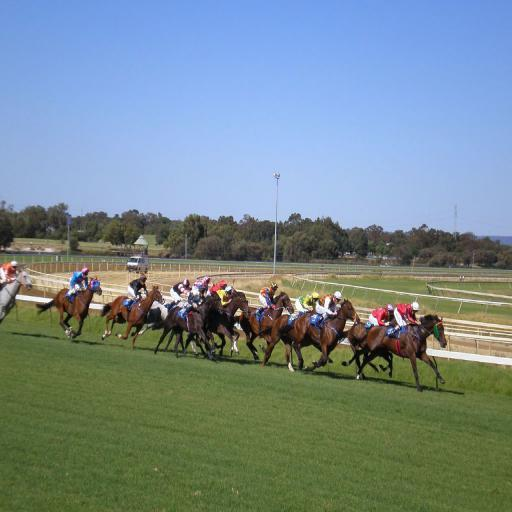Horse: (342, 313, 448, 391), (276, 295, 361, 374), (156, 289, 225, 361), (100, 282, 166, 352), (231, 290, 295, 359), (185, 291, 252, 356), (35, 275, 101, 340), (257, 312, 332, 365), (335, 323, 399, 379), (131, 298, 182, 352), (0, 266, 34, 321)
